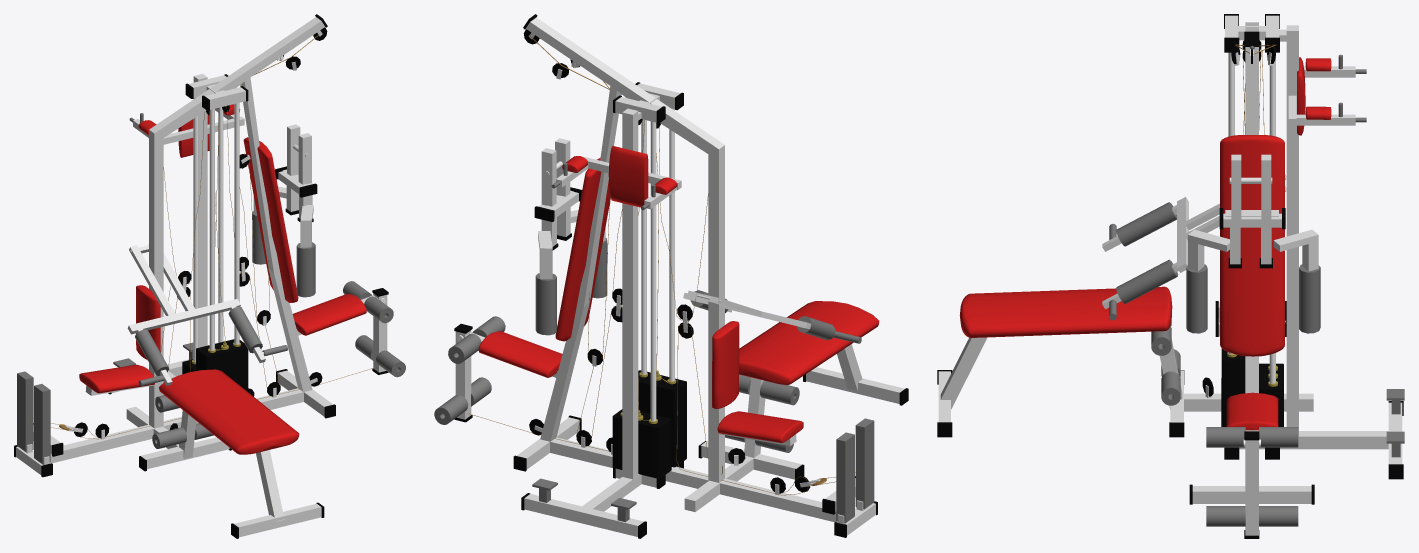
File: biggym.obj
The picture shows the model from 3 angles, left to right: view 1: azimuth 30°, elevation 25°; view 2: azimuth 150°, elevation 25°; view 3: azimuth 270°, elevation 25°; orthographic projection. The views are drawn at different scales.
Parts seen in each view (by area): view 1: MAINFRAME, MIDHANDBAR, TOPHANDBAR, weights2, LEGBAR, CABLES, L_FORSTEP, R_FOOTSTEP; view 2: MAINFRAME, TOPHANDBAR, weights3, LEGBAR, weights2, MIDHANDBAR, CABLES, R_FOOTSTEP, L_FORSTEP, Weights1; view 3: MAINFRAME, TOPHANDBAR, MIDHANDBAR, LEGBAR, weights2, weights3.
Part boxes in pixels (x1=…): MAINFRAME: x1=14, y1=14, x2=393, y2=538; MIDHANDBAR: x1=127, y1=245, x2=287, y2=386; TOPHANDBAR: x1=252, y1=124, x2=317, y2=297; weights2: x1=196, y1=339, x2=248, y2=383; LEGBAR: x1=355, y1=288, x2=405, y2=377; CABLES: x1=29, y1=35, x2=375, y2=439; L_FORSTEP: x1=17, y1=371, x2=33, y2=451; R_FOOTSTEP: x1=34, y1=384, x2=50, y2=463; MAINFRAME: x1=448, y1=14, x2=908, y2=538; TOPHANDBAR: x1=534, y1=138, x2=607, y2=335; weights3: x1=612, y1=409, x2=671, y2=478; LEGBAR: x1=434, y1=323, x2=491, y2=424; weights2: x1=638, y1=370, x2=686, y2=428; MIDHANDBAR: x1=683, y1=290, x2=861, y2=343; CABLES: x1=468, y1=35, x2=860, y2=495; R_FOOTSTEP: x1=855, y1=418, x2=874, y2=509; L_FORSTEP: x1=836, y1=432, x2=854, y2=523; Weights1: x1=671, y1=420, x2=686, y2=467; MAINFRAME: x1=937, y1=14, x2=1404, y2=504; TOPHANDBAR: x1=1186, y1=154, x2=1320, y2=333; MIDHANDBAR: x1=1102, y1=174, x2=1286, y2=320; LEGBAR: x1=1206, y1=431, x2=1298, y2=538; weights2: x1=1221, y1=348, x2=1245, y2=402; weights3: x1=1259, y1=363, x2=1283, y2=426.
Size of the model in its own units: 81.42 by 82.36 by 72.79.
